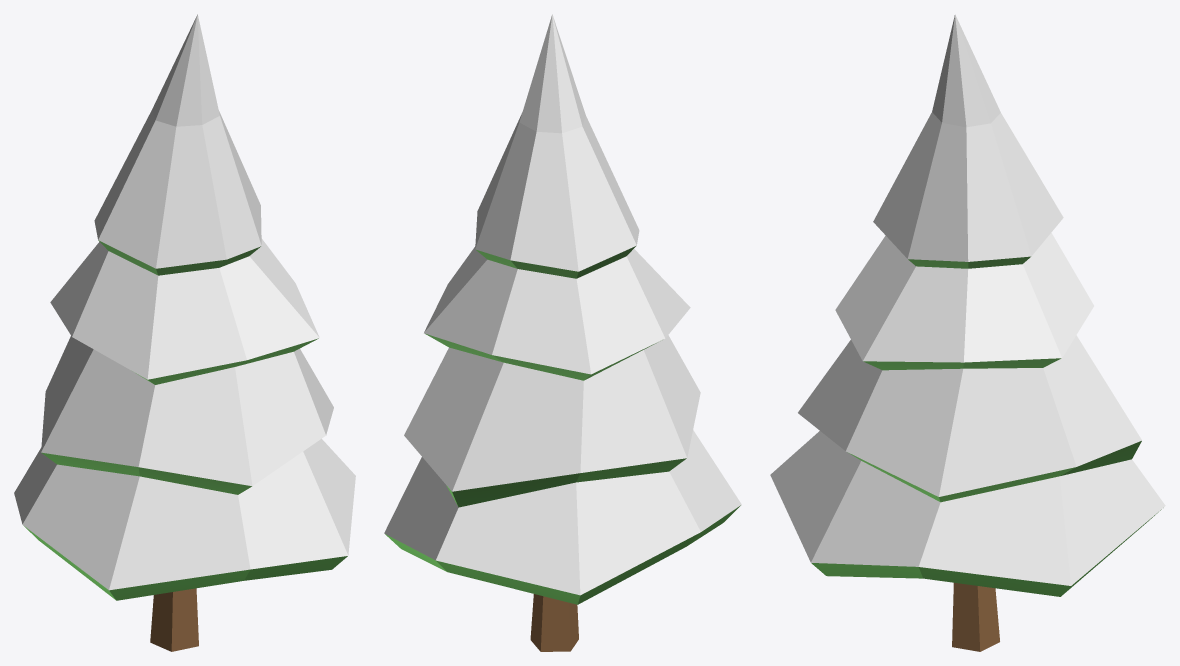
Rendered from Fir_Tree_m_Snow_05.fbx.
3 views of the same model, side by side, from view 1: azimuth 30°, elevation 25°; view 2: azimuth 150°, elevation 25°; view 3: azimuth 270°, elevation 25° (orthographic). The views are drawn at different scales.
Parts seen in each view (by area): view 1: Fir_Tree_m_Snow_05; view 2: Fir_Tree_m_Snow_05; view 3: Fir_Tree_m_Snow_05.
Part boxes in pixels (<box>): Fir_Tree_m_Snow_05: <box>14,14,355,651</box>; Fir_Tree_m_Snow_05: <box>384,14,741,651</box>; Fir_Tree_m_Snow_05: <box>770,14,1165,651</box>.
Bounding box in the file's own units: 314 × 623 × 353.
